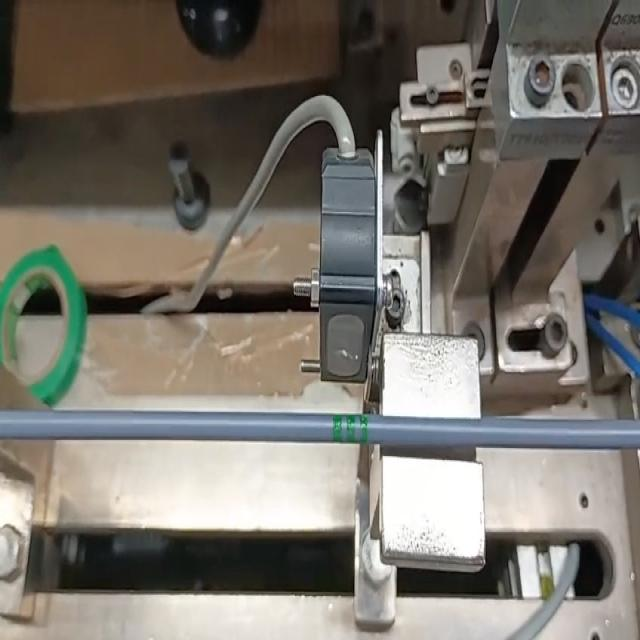green: (332, 413, 368, 444)
